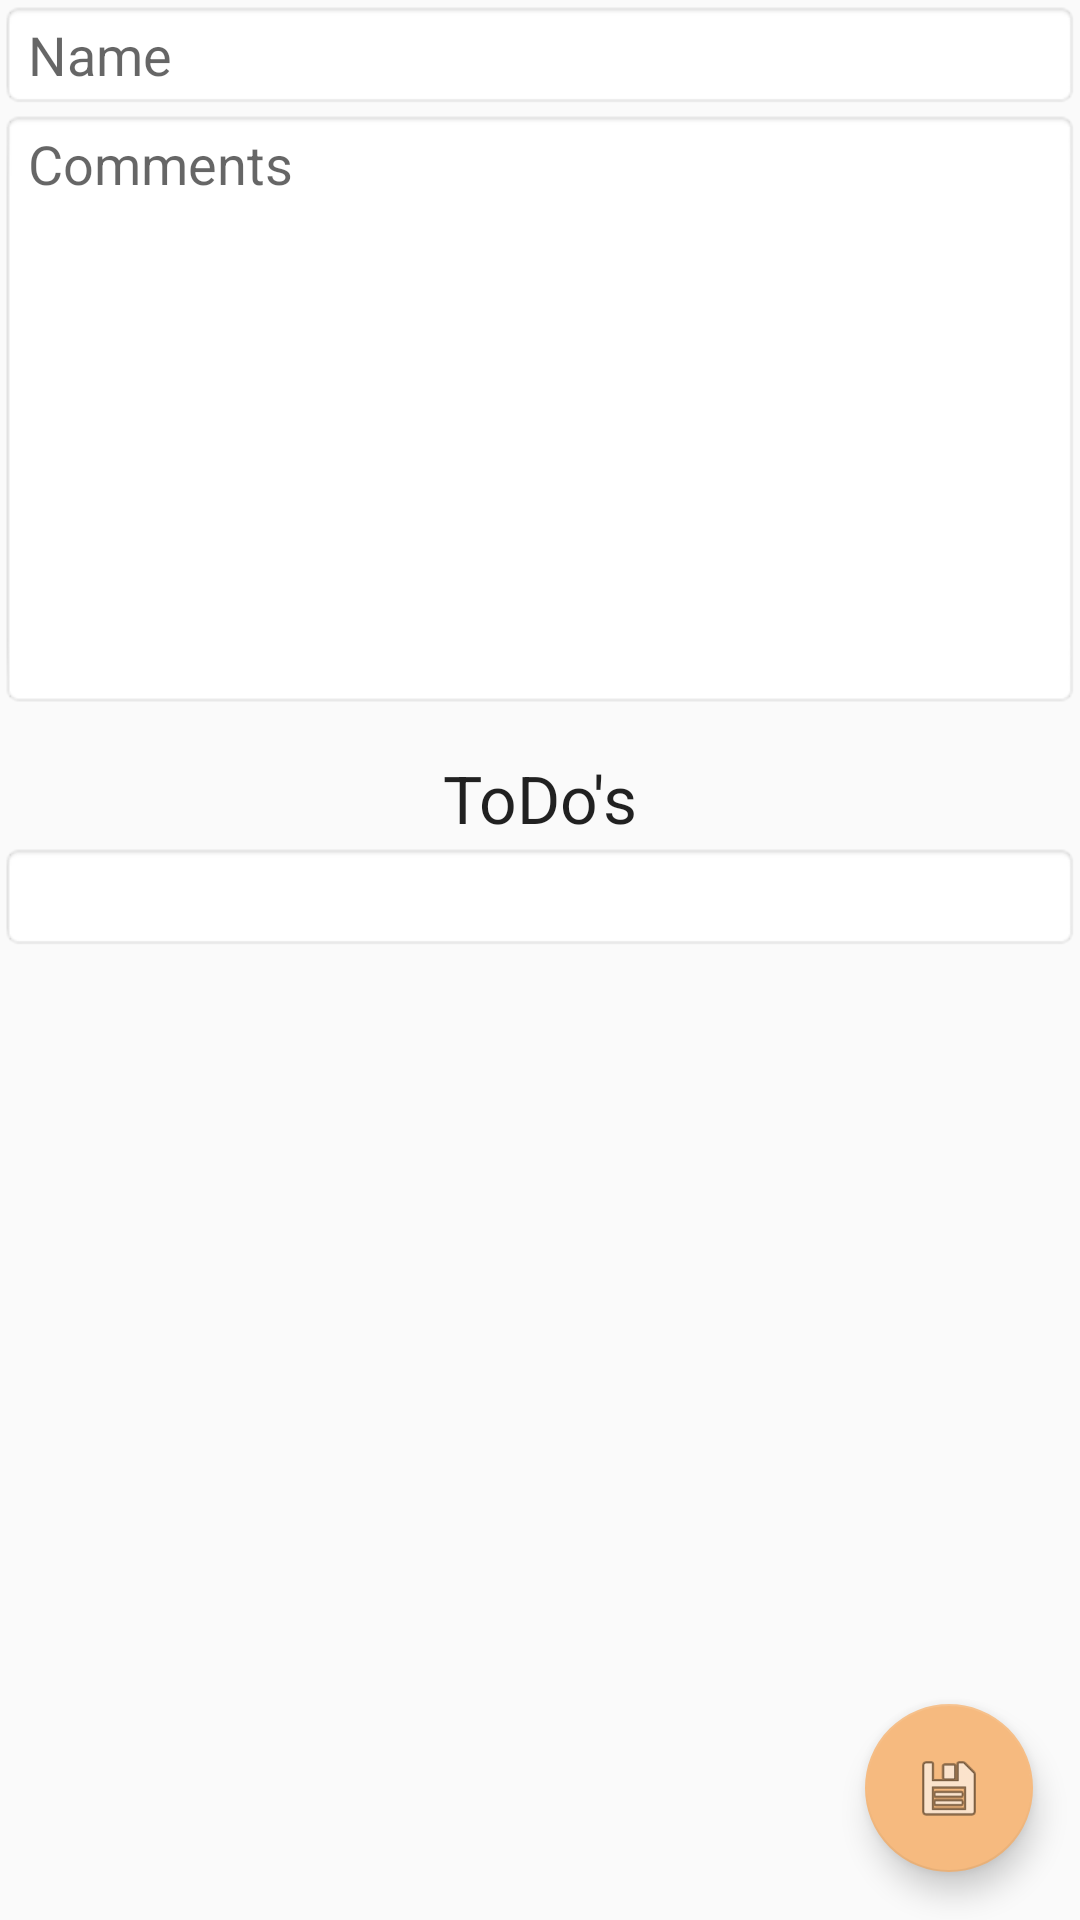

Point at icon controls on the screen. Image size 1080px×1920px, points as (x,y).
save: (949,1788)
